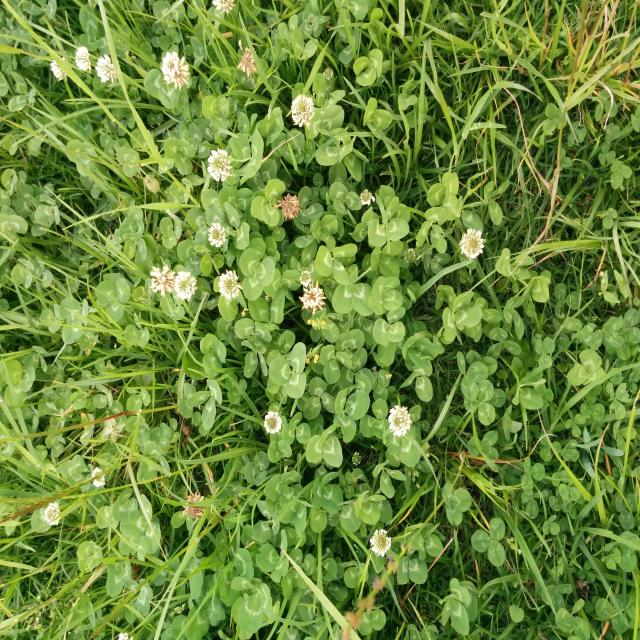Four Leaf Clover: (368, 276, 403, 315)
